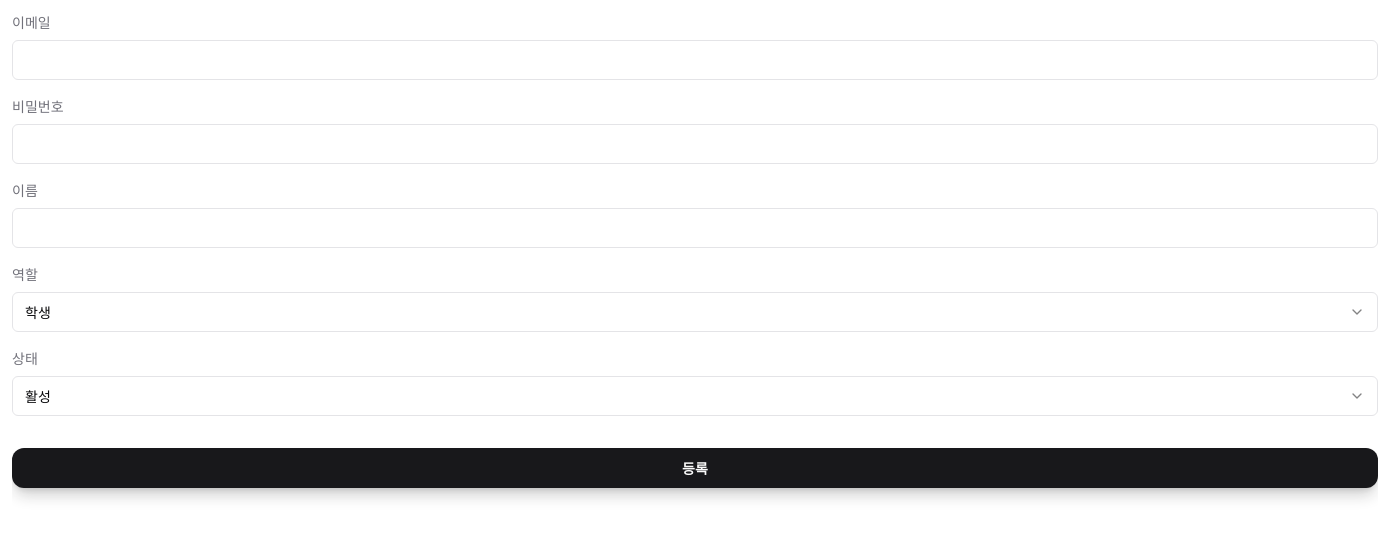
Test: UserCreateForm › displays validation error when email is invalid
Type "invalid" into the field labelled "이메일".
click(695, 60); type("invalid")  # box x1=12 y1=40 x2=1378 y2=80
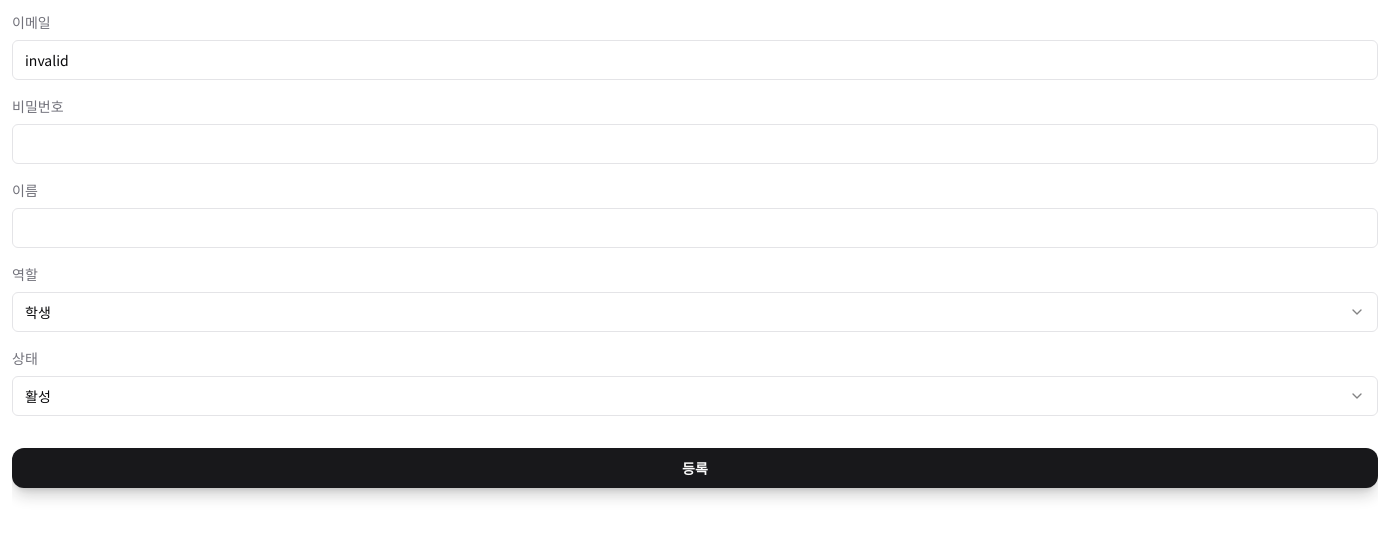
Type "password123" into the password field labelled "비밀번호".
click(695, 144); type("password123")  # box x1=12 y1=124 x2=1378 y2=164
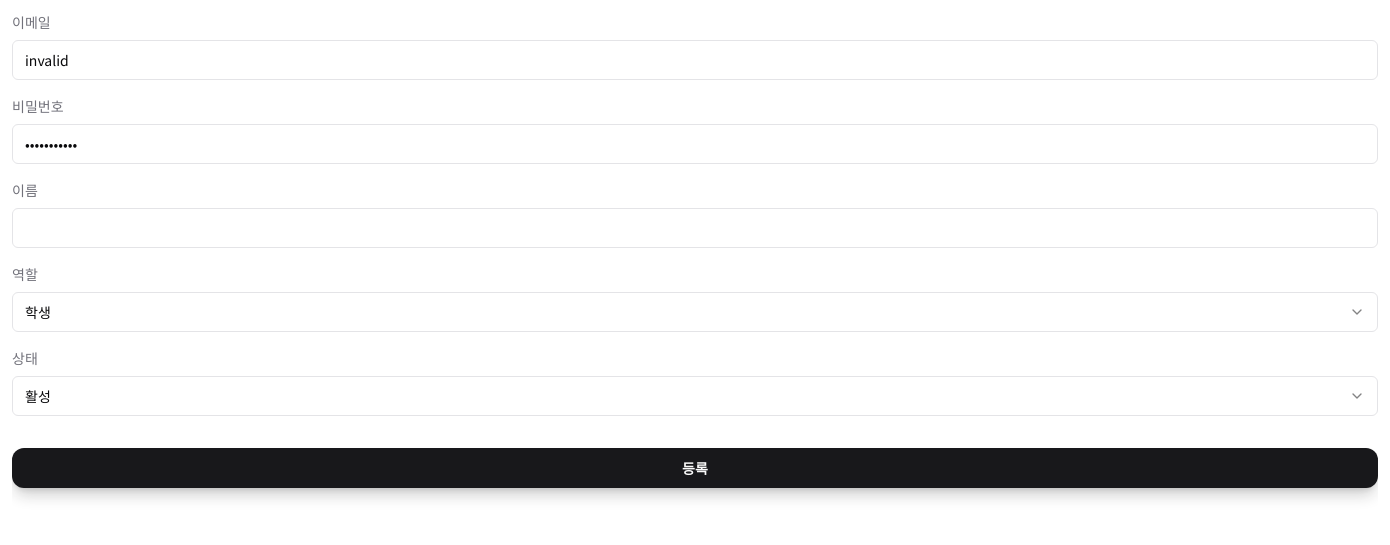
Type "홍길동" into the field labelled "이름".
click(695, 228); type("홍길동")  # box x1=12 y1=208 x2=1378 y2=248
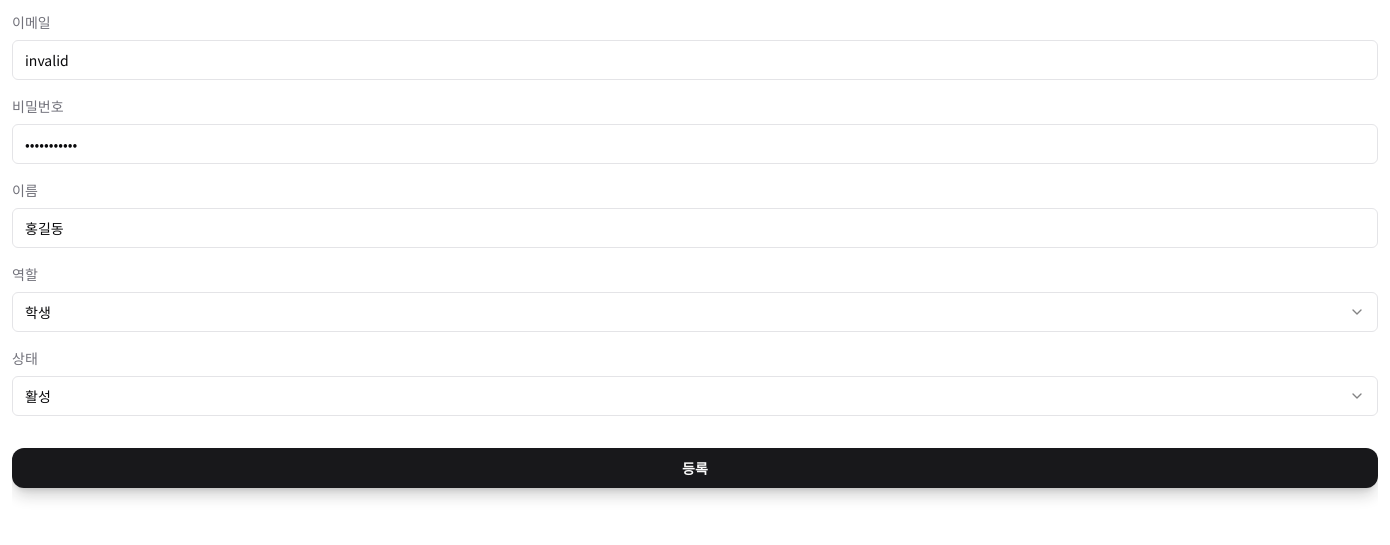
Submit the form
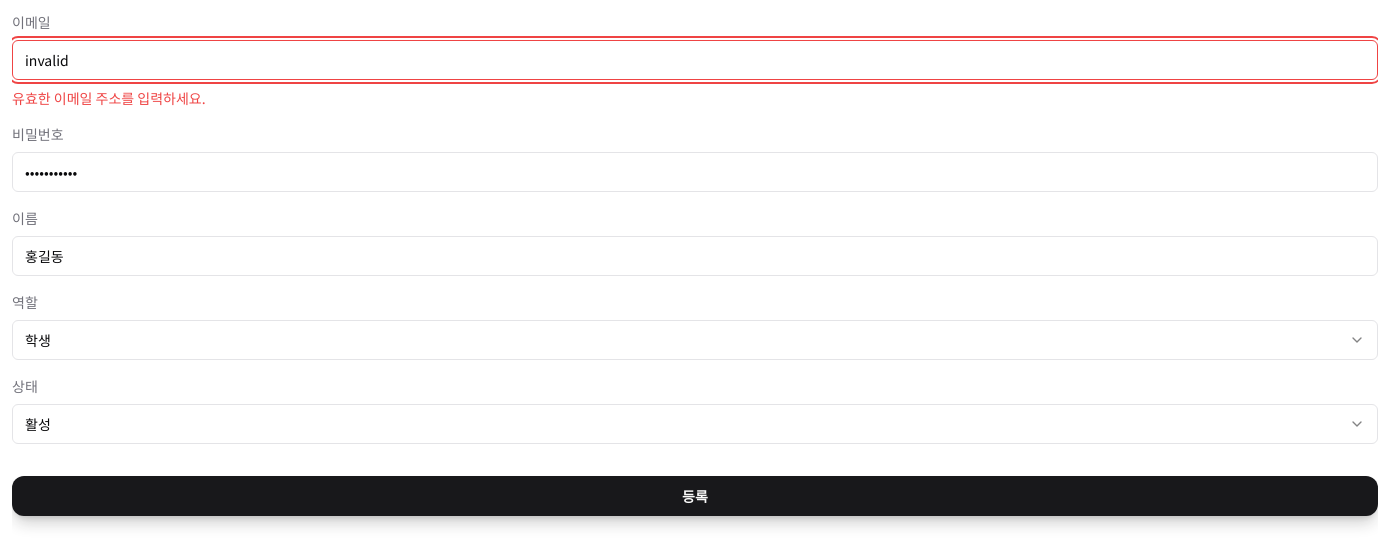
Check: the text "유효한 이메일 주소를 입력하세요." is shown, box x1=12 y1=88 x2=206 y2=108
